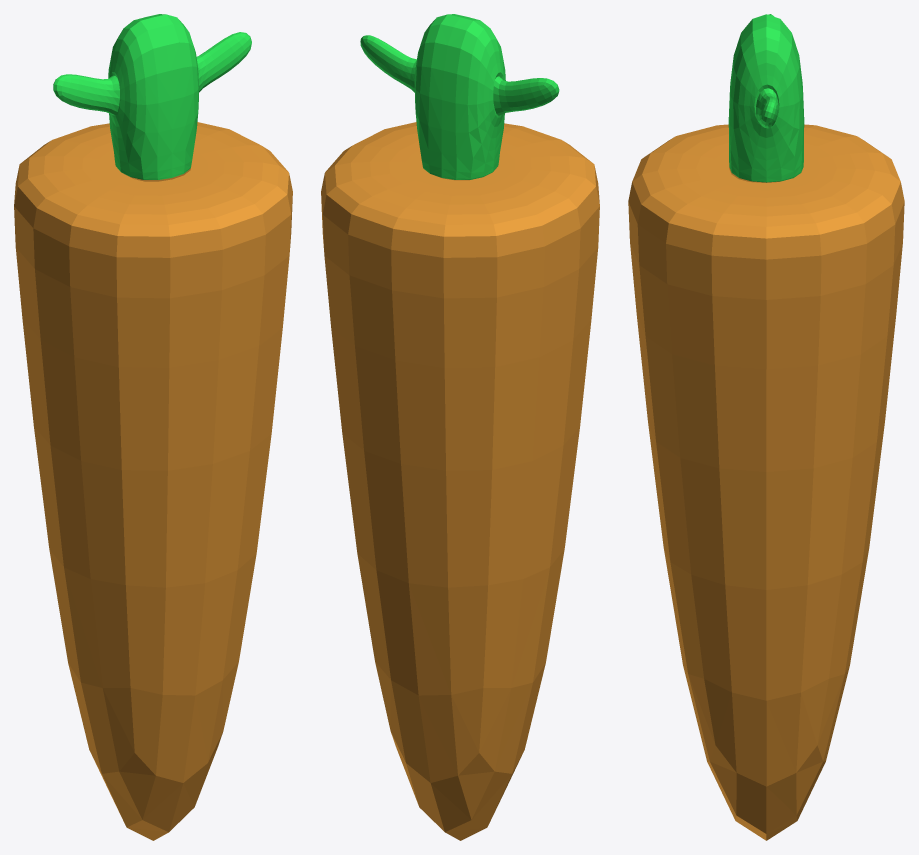
The model's file is CarrotV2.dae.
3 renders of one model, left to right at view 1: azimuth 30°, elevation 25°; view 2: azimuth 150°, elevation 25°; view 3: azimuth 270°, elevation 25°, orthographic.
Visible parts, largest first — view 1: Carrot, Carrot-Root; view 2: Carrot, Carrot-Root; view 3: Carrot, Carrot-Root.
Part boxes in pixels (x1=…): Carrot: x1=14, y1=122, x2=292, y2=840; Carrot-Root: x1=53, y1=14, x2=251, y2=179; Carrot: x1=321, y1=122, x2=599, y2=840; Carrot-Root: x1=360, y1=14, x2=559, y2=179; Carrot: x1=628, y1=124, x2=904, y2=840; Carrot-Root: x1=728, y1=14, x2=804, y2=182.
Bounding box in the file's own units: 1.54 × 1.54 × 5.03.
